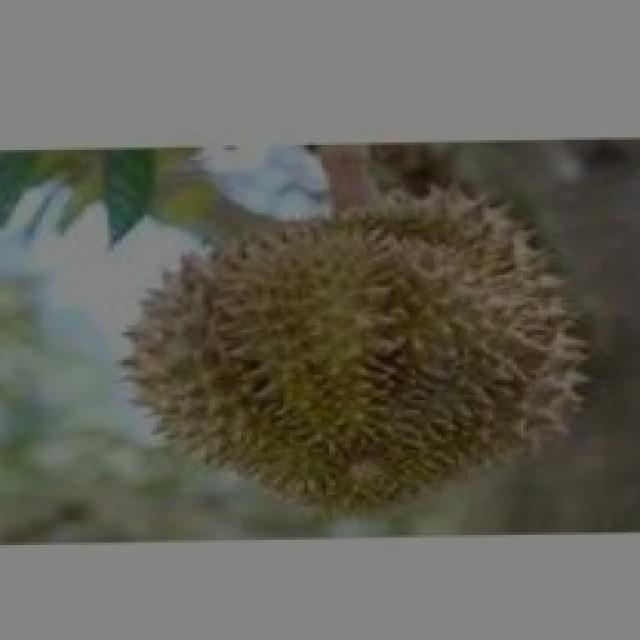fruit: (246, 165, 631, 533), (83, 185, 431, 530)
